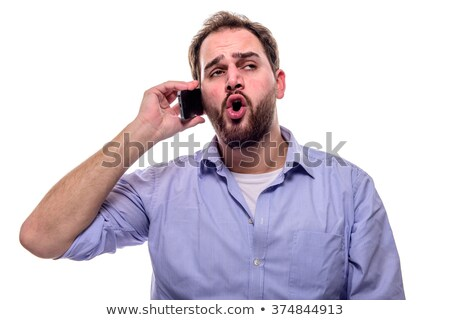phone: (169, 77, 205, 127)
talk: (139, 51, 273, 145)
